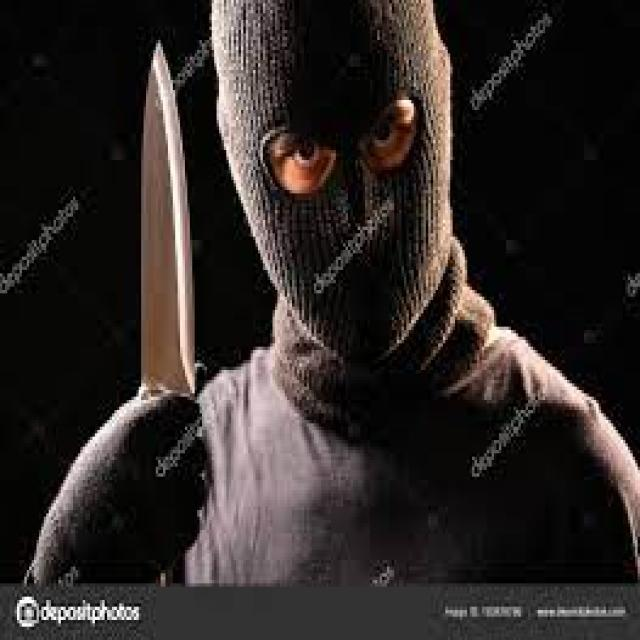faca: (105, 30, 231, 580)
